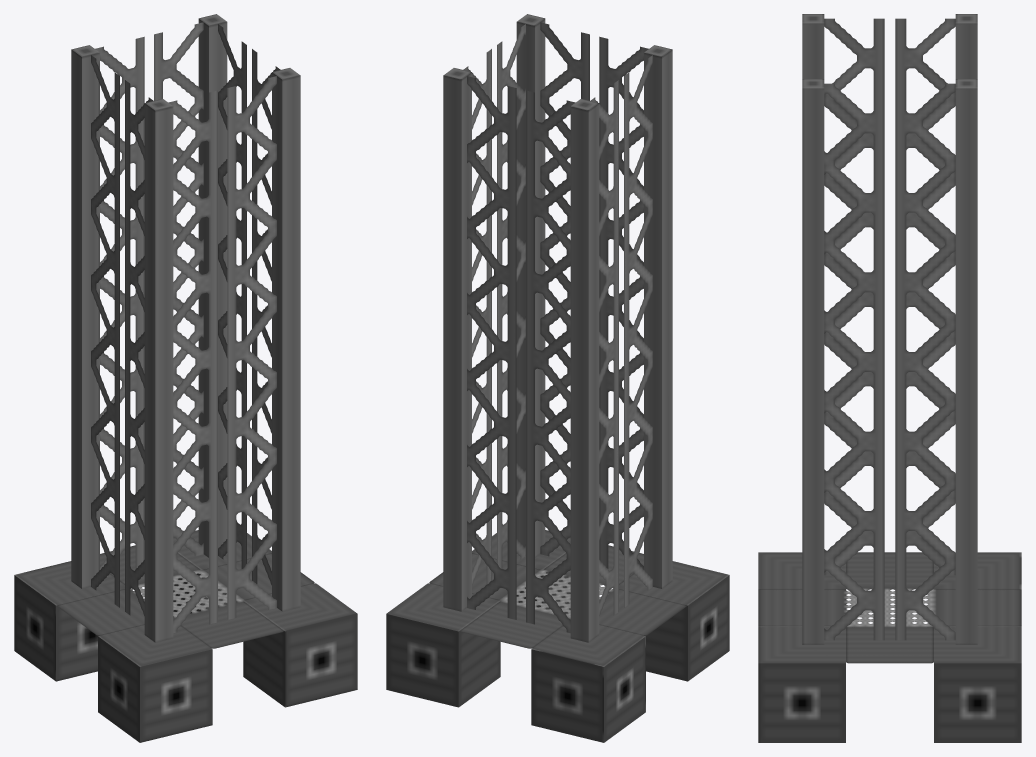
The model's file is compact_launcher.obj.
The picture shows the model from 3 angles, left to right: view 1: azimuth 30°, elevation 25°; view 2: azimuth 150°, elevation 25°; view 3: azimuth 270°, elevation 25°; orthographic projection. The views are drawn at different scales.
Parts seen in each view (by area): view 1: Cube_Cube.001; view 2: Cube_Cube.001; view 3: Cube_Cube.001.
Part boxes in pixels (x1,y1,x2,y2): Cube_Cube.001: [14, 14, 357, 742]; Cube_Cube.001: [386, 14, 729, 742]; Cube_Cube.001: [758, 14, 1021, 742].
Bounding box in the file's own units: 3 × 8 × 3.
